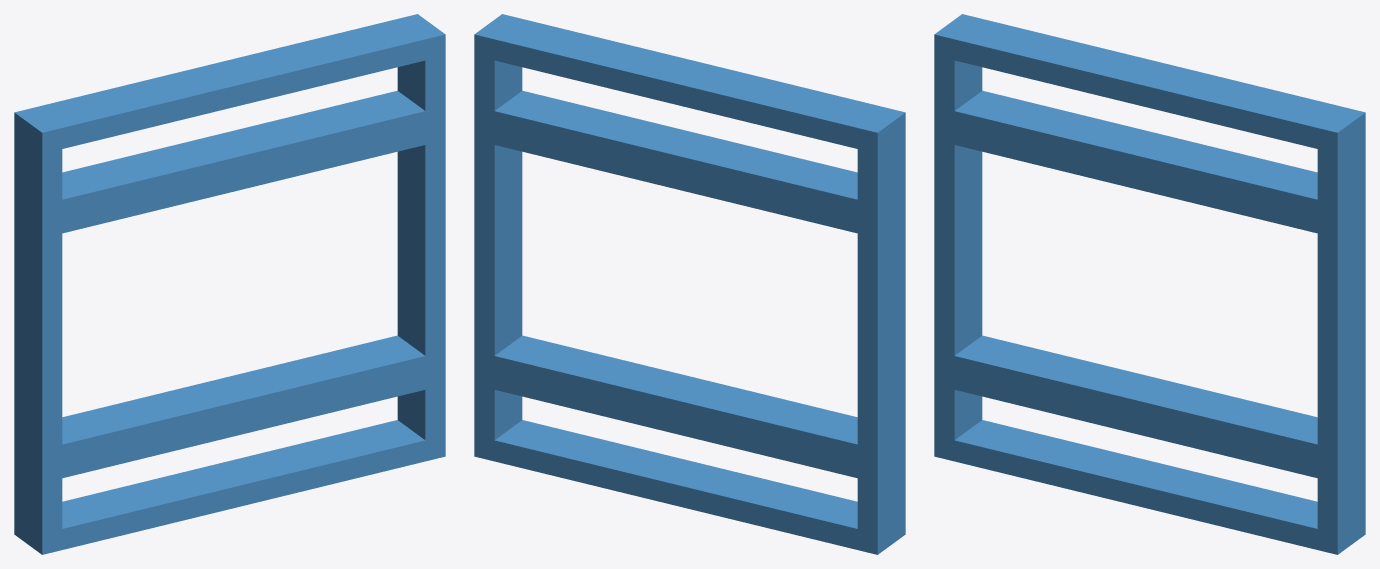
Rendered from Ceiling B.fbx.
3 renders of one model, left to right at view 1: azimuth 30°, elevation 25°; view 2: azimuth 150°, elevation 25°; view 3: azimuth 330°, elevation 25°, orthographic.
Visible parts, largest first — view 1: meshes[0]; view 2: meshes[0]; view 3: meshes[0].
Part boxes in pixels (x1,y1,x2,y2): meshes[0]: [14, 14, 445, 554]; meshes[0]: [474, 14, 905, 554]; meshes[0]: [934, 14, 1365, 554].
Size of the model in its own units: 50 by 50 by 6.
